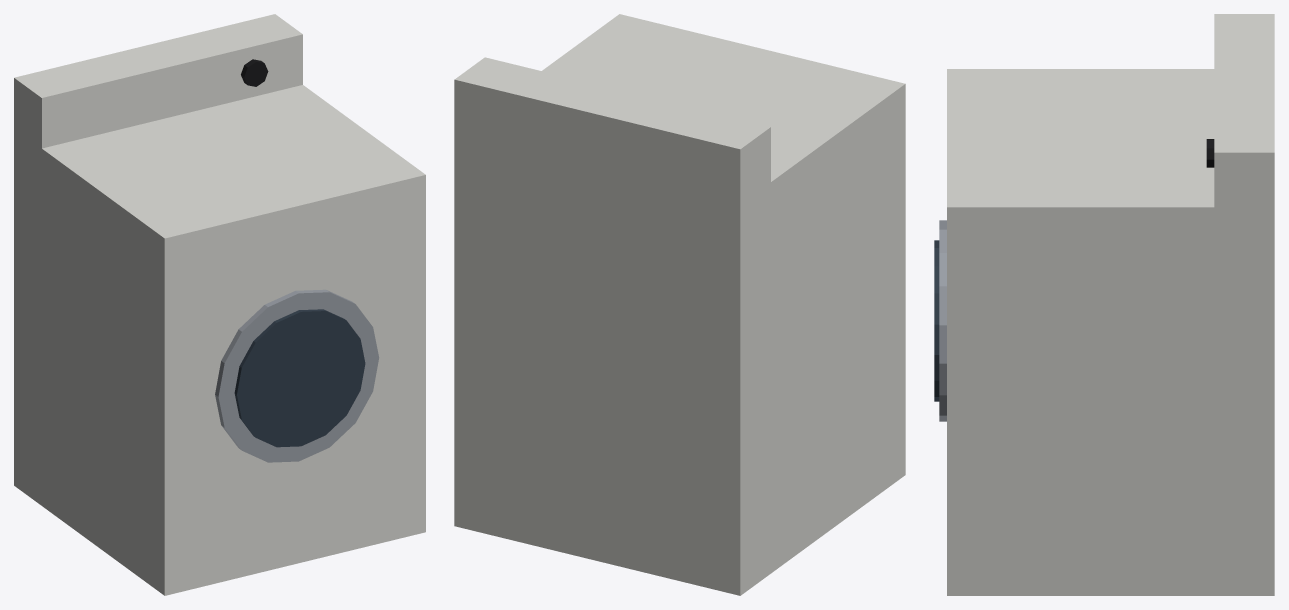
Rendered from washer.glb.
The picture shows the model from 3 angles, left to right: view 1: azimuth 30°, elevation 25°; view 2: azimuth 150°, elevation 25°; view 3: azimuth 270°, elevation 25°; orthographic projection. The views are drawn at different scales.
Parts seen in each view (by area): view 1: washer; view 2: washer; view 3: washer.
Boxes of the visible parts, x1=… form: washer: x1=14, y1=14, x2=425, y2=595; washer: x1=454, y1=14, x2=905, y2=595; washer: x1=934, y1=14, x2=1274, y2=595.
Bounding box in the file's own units: 0.65 × 0.97 × 0.675.
